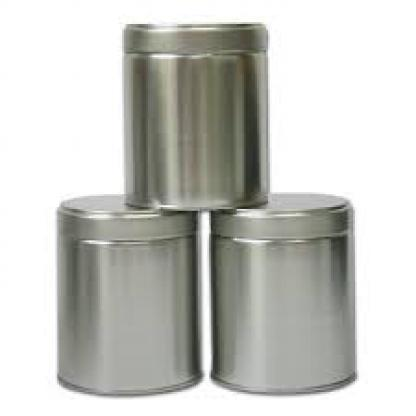Compsot: (209, 190, 355, 392), (54, 196, 202, 394), (118, 20, 268, 207)
